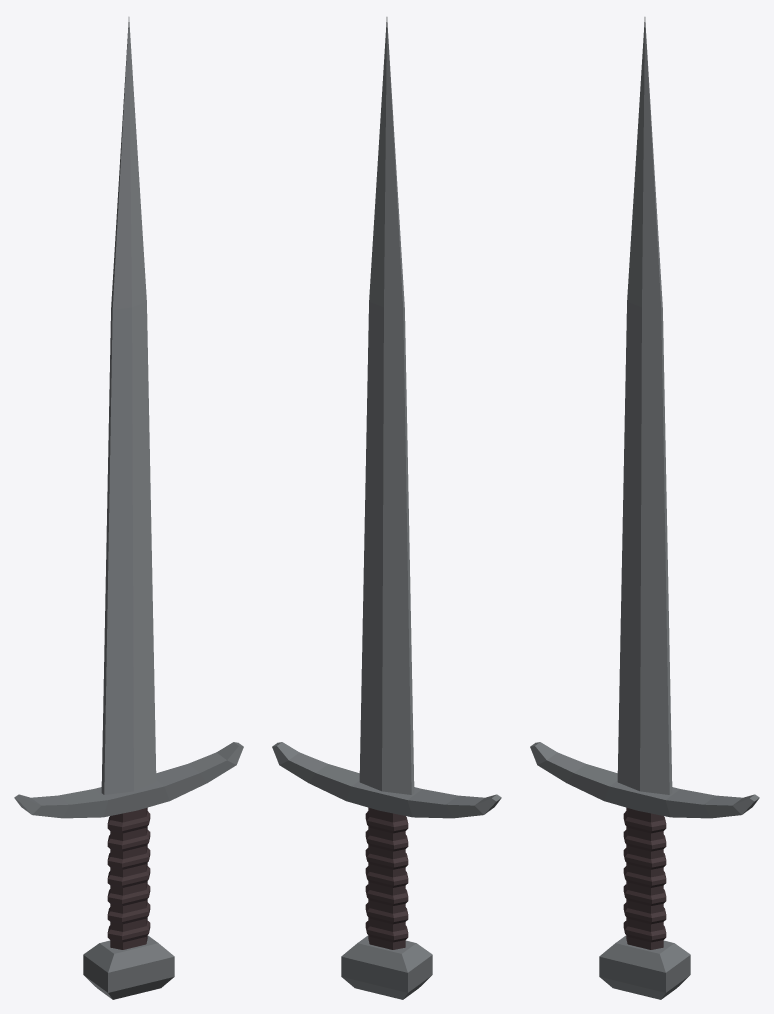
File: Sword.002.fbx
3 renders of one model, left to right at view 1: azimuth 30°, elevation 25°; view 2: azimuth 150°, elevation 25°; view 3: azimuth 330°, elevation 25°, orthographic.
Parts seen in each view (by area): view 1: Sword.002; view 2: Sword.002; view 3: Sword.002.
Boxes of the visible parts, x1,y1,x2,y2 form: Sword.002: [14, 17, 243, 999]; Sword.002: [272, 17, 501, 999]; Sword.002: [530, 17, 759, 999].
Size of the model in its own units: 18.83 by 78.08 by 3.62.
